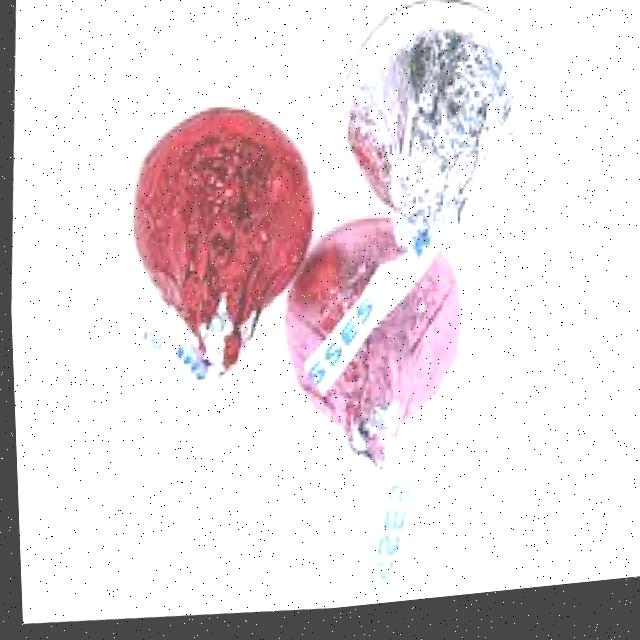kisses: (325, 0, 534, 282)
